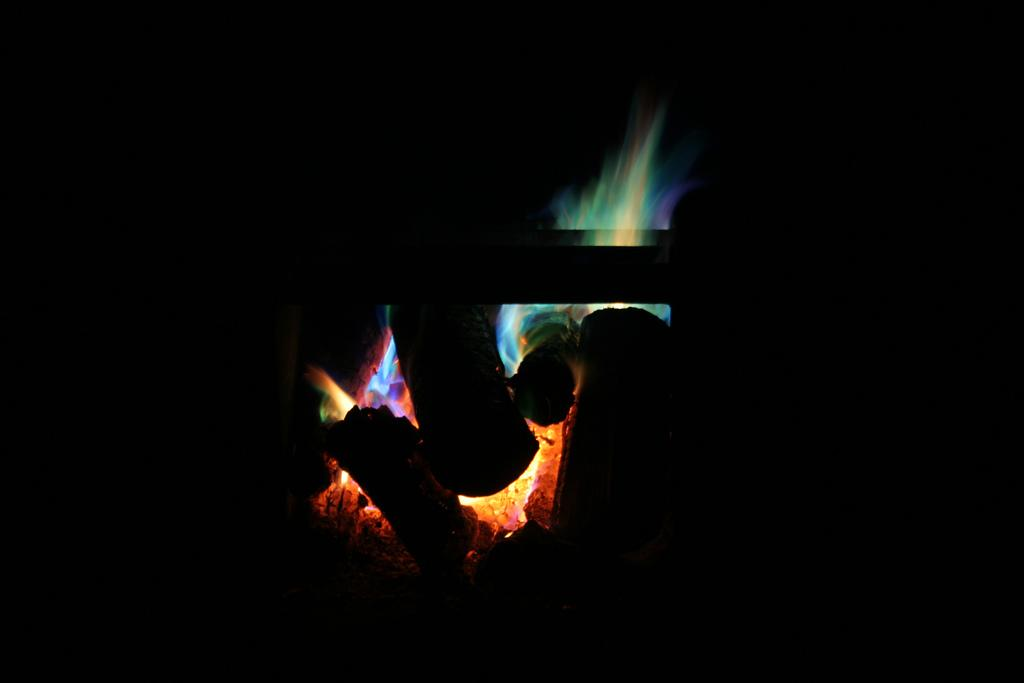fire: (470, 478, 533, 542), (573, 188, 672, 227), (363, 357, 398, 408), (500, 298, 527, 357)
